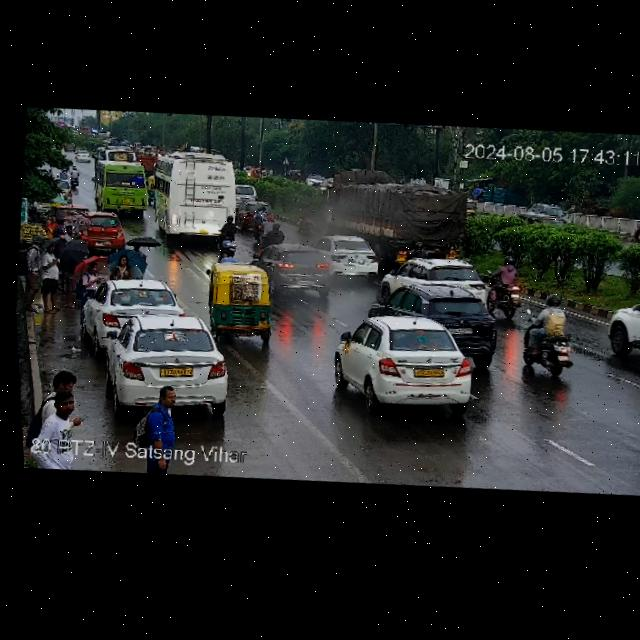bus: (143, 137, 243, 243), (91, 157, 153, 217), (92, 143, 142, 170)
car: (81, 291, 238, 421), (325, 302, 484, 428), (370, 262, 506, 375), (82, 277, 188, 358), (375, 248, 492, 314), (202, 258, 277, 344), (253, 237, 337, 294), (310, 228, 384, 280), (603, 283, 640, 365), (76, 208, 129, 255), (519, 199, 573, 232), (228, 180, 262, 212), (303, 170, 325, 195), (75, 150, 92, 165)
motorcycle: (520, 289, 569, 378), (484, 252, 528, 323), (215, 214, 242, 257), (249, 206, 270, 235)
person: (22, 369, 93, 473), (126, 381, 187, 475), (31, 236, 71, 318), (106, 248, 150, 285), (78, 260, 102, 303), (215, 217, 239, 245)
truck: (321, 159, 470, 262)
